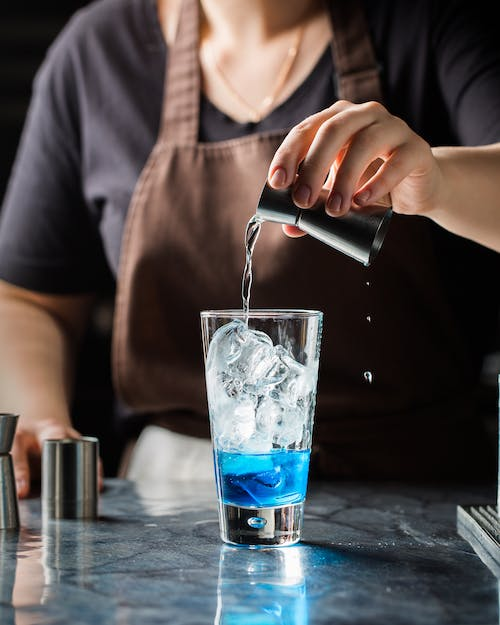alcohol: (197, 306, 325, 550)
